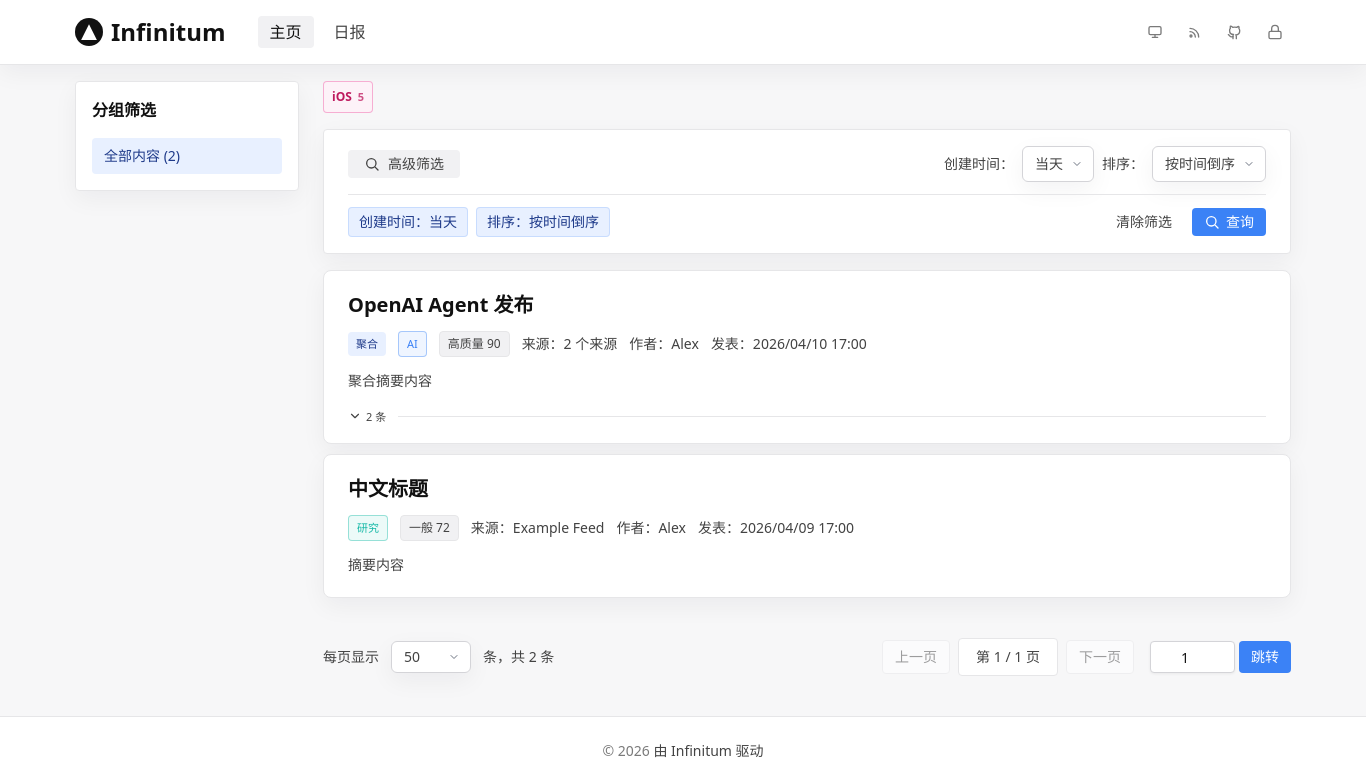
Test: FeedPanel › resets the feed to the initial home state from the active home nav after filtering by tag
What coordinates should you click on to do the following:
click the button with aria-label "筛选标签：iOS，5 条"
I would click on:
 (348, 97)
Its box is [323,81,373,113].
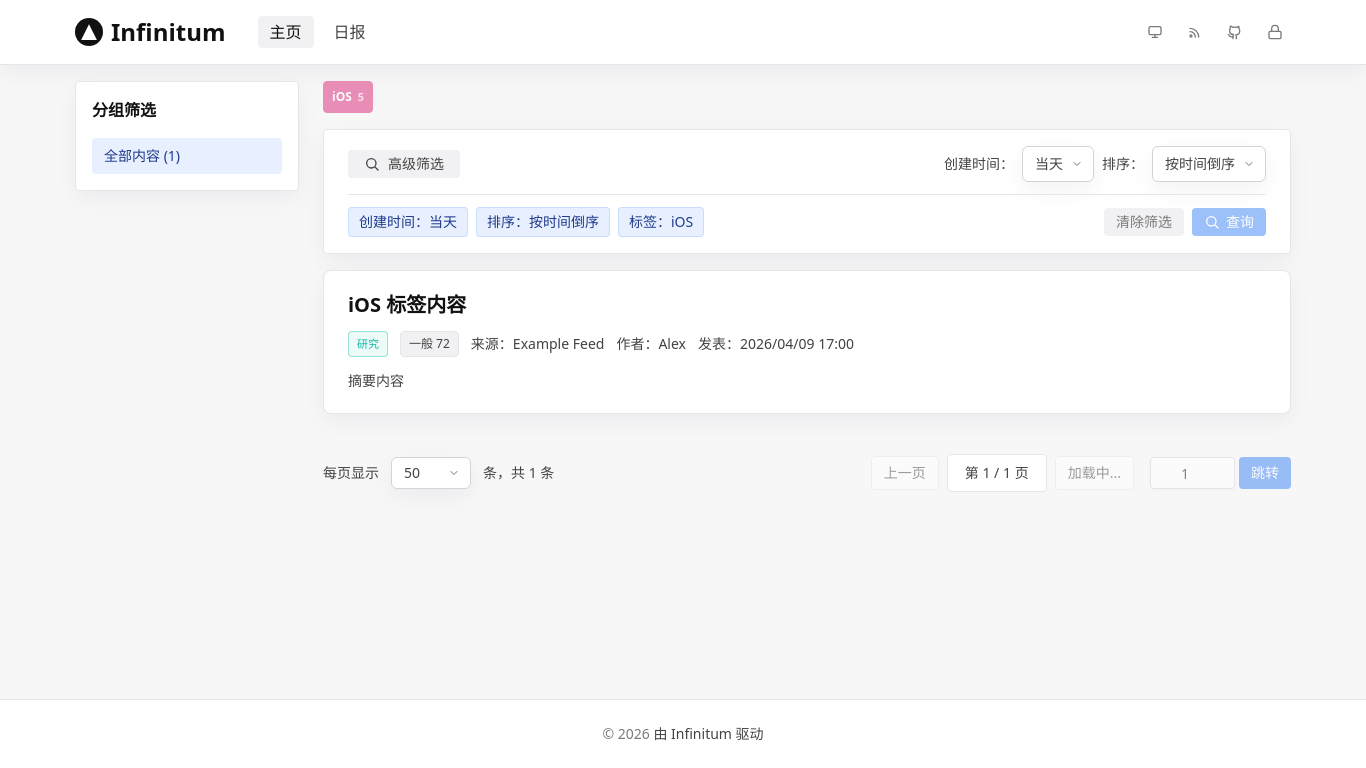
Now the link "iOS 标签内容" is shown, box [348,291,466,318]
Now the text "标签：iOS" is shown, box [618,207,704,237]
What coordinates should you click on to do the following:
click the link "主页"
I would click on:
 (286, 32)
Its box is [258,16,314,48].
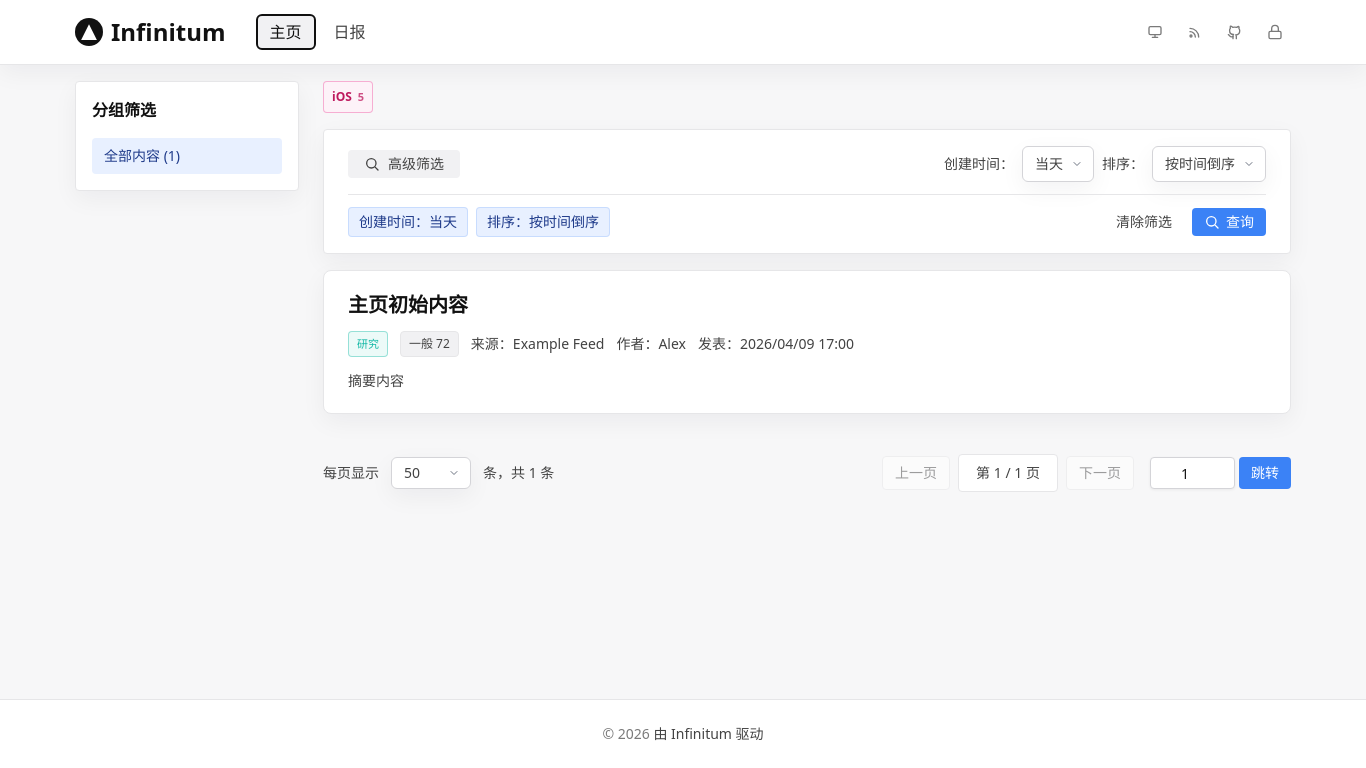
Now the link "主页初始内容" is shown, box [348,291,468,318]
Now the text "标签：iOS" is gone
